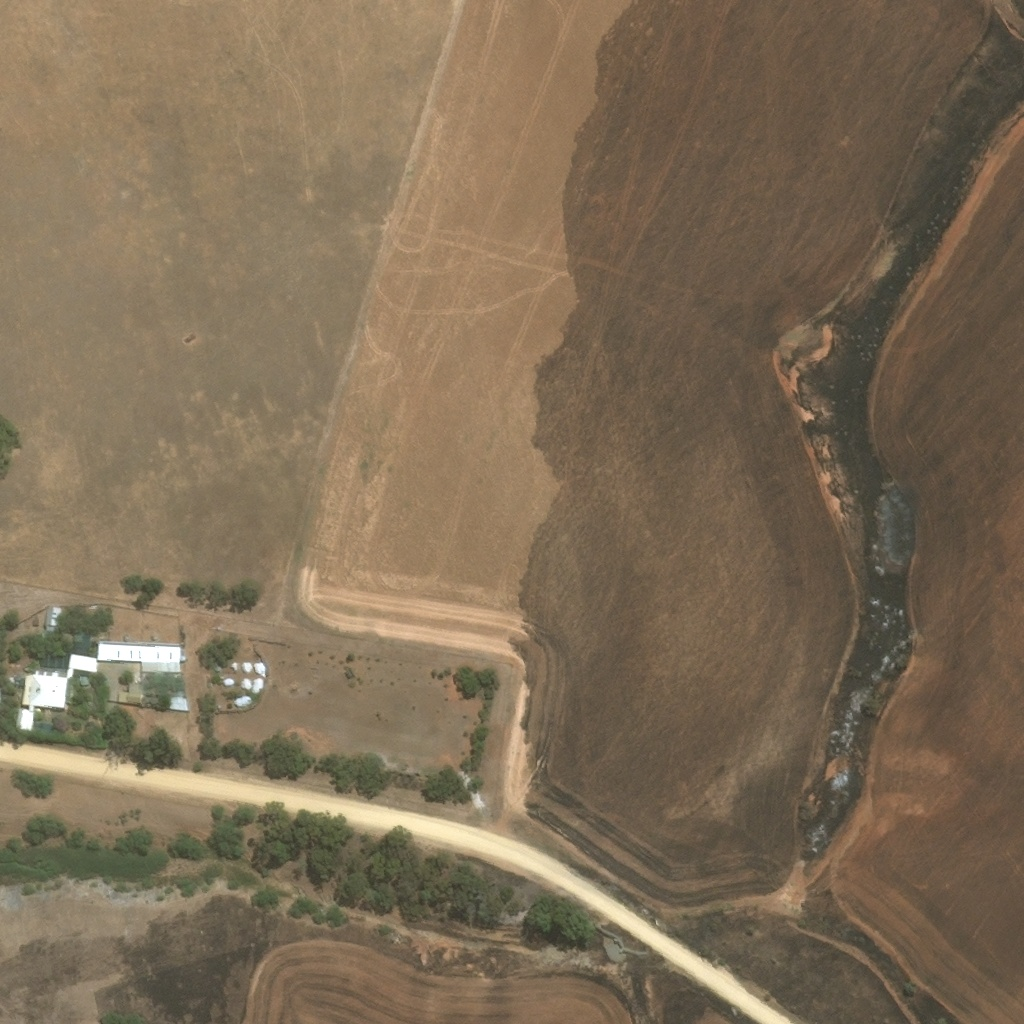0 no-damage: (98, 642, 187, 710), (15, 673, 67, 729), (39, 650, 68, 668), (70, 652, 96, 671), (45, 604, 61, 632), (240, 677, 263, 694), (240, 661, 266, 674), (74, 632, 93, 646), (236, 695, 252, 707), (105, 691, 116, 701), (221, 677, 233, 686), (229, 661, 239, 670), (79, 675, 88, 685), (67, 667, 73, 676), (124, 635, 130, 640), (181, 654, 186, 660)
4 un-classified: (207, 666, 221, 688)
